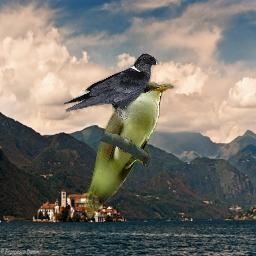Crow: (61, 53, 160, 123)
Cuckoo: (82, 82, 174, 216)
